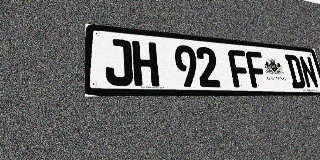2: (195, 46, 221, 87)
9: (174, 44, 200, 87)
D: (284, 54, 306, 88)
F: (227, 49, 252, 88), (245, 51, 268, 88)
H: (132, 40, 159, 86)
J: (105, 38, 133, 86)
N: (298, 56, 320, 88)
